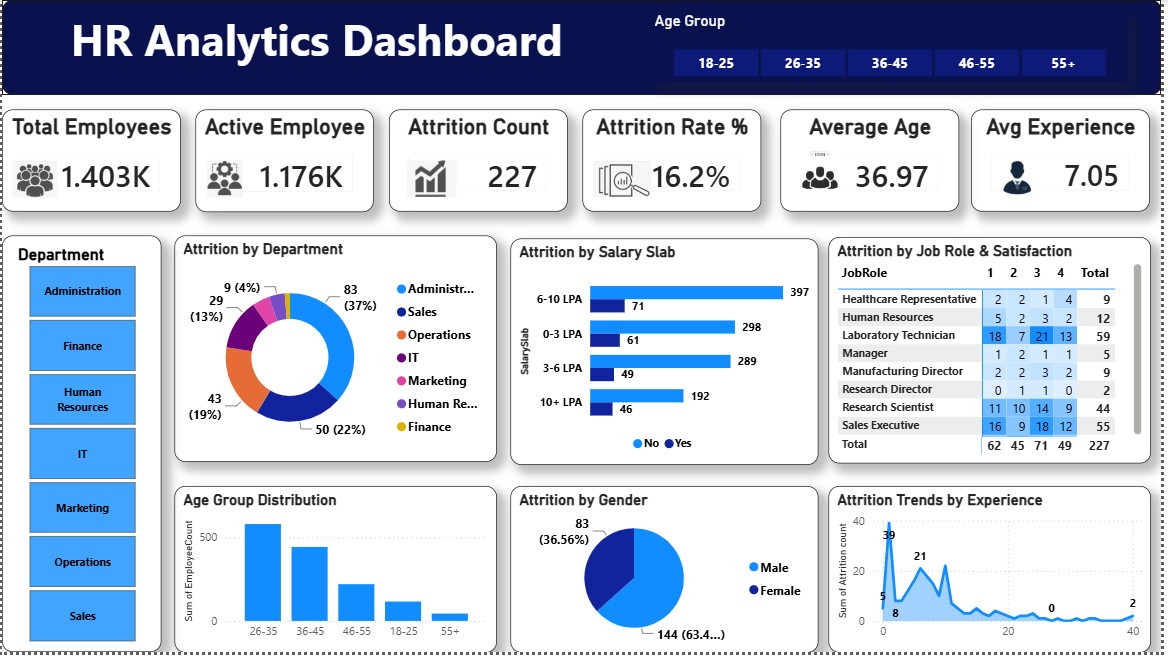

What the dashboard file says about the page in this screenshot:
{"tool":"powerbi","page":{"name":"Page 1","canvas":[1280,720],"ordinal":0},"visuals":[{"type":"textbox","box":[0,0,1280.5,104.4],"z":0},{"type":"cardVisual","title":"Total Employees","fields":{"Data":["CountNonNull(HR_Analytics-4 (2).EmpID)"]},"box":[0,120.9,197.1,112.6],"z":1000},{"type":"cardVisual","title":"Active Employee","fields":{"Data":["CountNonNull(HR_Analytics-4 (2).EmployeeCount)"]},"box":[213.5,120.9,196.5,113.4],"z":2000},{"type":"cardVisual","title":"Attrition Count","fields":{"Data":["Sum(HR_Analytics-4.Attrition count)"]},"box":[427.4,120.9,197.1,112.6],"z":3000},{"type":"cardVisual","title":"Avg Experience","fields":{"Data":["Avg(HR_Analytics-4.YearsatCompany)"]},"box":[1070.1,120.9,197.1,112.6],"z":4000},{"type":"cardVisual","title":"Average Age","fields":{"Data":["Avg(HR_Analytics-4.Age)"]},"box":[859.7,120.9,197.1,112.6],"z":5000},{"type":"cardVisual","title":"Attrition Rate %","fields":{"Data":["HR_Analytics-4.Attrition rate %"]},"box":[641.1,120.9,197.1,112.6],"z":6000},{"type":"image","box":[0,177.2,72.9,41.4],"z":7000},{"type":"image","box":[447.2,177.2,54.7,41.4],"z":8000},{"type":"image","box":[213.7,177.2,64.6,41.4],"z":9000},{"type":"image","box":[652.7,177.2,64.6,41.4],"z":10000},{"type":"image","box":[870.8,167.5,64.2,51.7],"z":11000},{"type":"image","box":[1101.6,175.6,39.8,41.4],"z":12000},{"type":"donutChart","title":"Attrition by Department","fields":{"Category":["HR_Analytics-4.Department"],"Y":["Sum(HR_Analytics-4.Attrition count)"]},"box":[190,260,356,250],"z":13000},{"type":"clusteredBarChart","title":"Attrition by Salary Slab","fields":{"Category":["HR_Analytics-4.SalarySlab"],"Y":["CountNonNull(HR_Analytics-4.EmpID)"],"Series":["HR_Analytics-4.Attrition"]},"box":[562,264,340,250],"z":14000},{"type":"pivotTable","title":"Attrition by Job Role & Satisfaction ","fields":{"Rows":["HR_Analytics-4.JobRole"],"Values":["Sum(HR_Analytics-4.Attrition count)"],"Columns":["HR_Analytics-4.JobSatisfaction"]},"box":[912,262,356,250],"z":15000},{"type":"columnChart","title":"Age Group Distribution","fields":{"Category":["HR_Analytics-4.AgeGroup"],"Y":["Sum(HR_Analytics-4.EmployeeCount)"]},"box":[190,536,356,184],"z":16000},{"type":"pieChart","title":"Attrition by Gender","fields":{"Category":["HR_Analytics-4.Gender"],"Y":["Sum(HR_Analytics-4.Attrition count)"]},"box":[562,536,340,184],"z":17000},{"type":"areaChart","title":"Attrition Trends by Experience","fields":{"Category":["HR_Analytics-4.TotalExperience(Years)"],"Y":["Sum(HR_Analytics-4.Attrition count)"]},"box":[912,536,356,184],"z":18000},{"type":"slicer","fields":{"Values":["HR_Analytics-4.Department"]},"box":[0,260,176,460],"z":19000},{"type":"slicer","title":"Age Group","fields":{"Values":["HR_Analytics-4.AgeGroup"]},"box":[716,14,528,78],"z":20000}]}

Visuals, with their boxes in screenshot pixels (x1, y1, x2, y2), scaled from the page's 1280x720 canvas onto the 1168x660 screenshot:
textbox: rect(0, 0, 1167, 96)
"Total Employees" cardVisual: rect(0, 111, 180, 214)
"Active Employee" cardVisual: rect(195, 111, 374, 215)
"Attrition Count" cardVisual: rect(390, 111, 570, 214)
"Avg Experience" cardVisual: rect(976, 111, 1156, 214)
"Average Age" cardVisual: rect(784, 111, 964, 214)
"Attrition Rate %" cardVisual: rect(585, 111, 765, 214)
image: rect(0, 162, 67, 200)
image: rect(408, 162, 458, 200)
image: rect(195, 162, 254, 200)
image: rect(596, 162, 655, 200)
image: rect(795, 154, 853, 201)
image: rect(1005, 161, 1042, 199)
"Attrition by Department" donutChart: rect(173, 238, 498, 468)
"Attrition by Salary Slab" clusteredBarChart: rect(513, 242, 823, 471)
"Attrition by Job Role & Satisfaction " pivotTable: rect(832, 240, 1157, 469)
"Age Group Distribution" columnChart: rect(173, 491, 498, 659)
"Attrition by Gender" pieChart: rect(513, 491, 823, 659)
"Attrition Trends by Experience" areaChart: rect(832, 491, 1157, 659)
slicer - HR_Analytics-4.Department: rect(0, 238, 161, 659)
"Age Group" slicer: rect(653, 13, 1135, 84)
